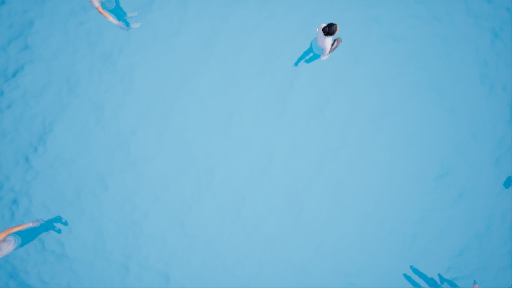person: (1, 209, 76, 258), (281, 17, 347, 68), (91, 1, 149, 33)
